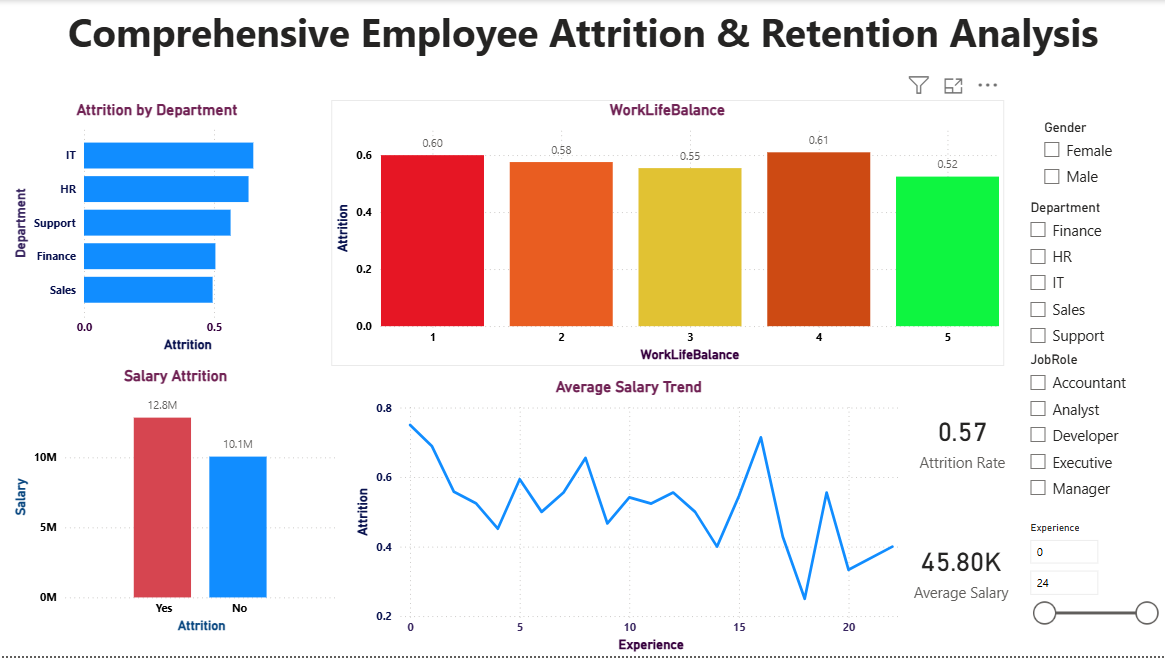

What the dashboard file says about the page in this screenshot:
{"tool":"powerbi","page":{"name":"Page 1","canvas":[1280,720],"ordinal":0},"visuals":[{"type":"barChart","title":"Attrition by Department","fields":{"Category":["employee_attrition.Department"],"Y":["employee_attrition.Attrition Rate"]},"box":[9.6,109.8,325.2,281.3],"z":0},{"type":"clusteredColumnChart","title":"Salary Attrition","fields":{"Category":["employee_attrition.Attrition"],"Y":["Sum(employee_attrition.Salary)"]},"box":[9.6,402.1,366.4,297.8],"z":1000},{"type":"columnChart","title":"WorkLifeBalance","fields":{"Category":["employee_attrition.WorkLifeBalance"],"Y":["employee_attrition.Attrition Rate"]},"box":[363.6,109.8,738.3,292.3],"z":2000},{"type":"lineChart","title":"Average Salary Trend","fields":{"Category":["employee_attrition.Experience"],"Y":["employee_attrition.Attrition Rate"]},"box":[385.6,414.4,609.3,306],"z":3000},{"type":"slicer","fields":{"Values":["employee_attrition.Department"]},"box":[1118.4,214.1,161.9,177],"z":4000},{"type":"slicer","fields":{"Values":["employee_attrition.JobRole"]},"box":[1118.4,381.5,161.9,175.6],"z":5000},{"type":"slicer","fields":{"Values":["employee_attrition.Experience"]},"box":[1118.4,568.1,161.9,146.8],"z":6000},{"type":"slicer","fields":{"Values":["employee_attrition.Gender"]},"box":[1133.5,126.2,146.8,87.8],"z":6001},{"type":"card","fields":{"Values":["employee_attrition.Attrition Rate"]},"box":[994.9,414.4,123.5,137.2],"z":6002},{"type":"card","fields":{"Values":["employee_attrition.Average Salary"]},"box":[992.1,551.6,126.2,148.2],"z":6003},{"type":"textbox","box":[0,0,1280.3,70],"z":6004}]}

Visuals, with their boxes in screenshot pixels (x1, y1, x2, y2), scaled from the page's 1280x720 canvas onto the 1165x660 screenshot:
"Attrition by Department" barChart: box(9, 101, 305, 359)
"Salary Attrition" clusteredColumnChart: box(9, 369, 342, 642)
"WorkLifeBalance" columnChart: box(331, 101, 1003, 369)
"Average Salary Trend" lineChart: box(351, 380, 906, 659)
slicer - employee_attrition.Department: box(1018, 196, 1164, 359)
slicer - employee_attrition.JobRole: box(1018, 350, 1164, 511)
slicer - employee_attrition.Experience: box(1018, 521, 1164, 655)
slicer - employee_attrition.Gender: box(1032, 116, 1164, 196)
card - employee_attrition.Attrition Rate: box(906, 380, 1018, 506)
card - employee_attrition.Average Salary: box(903, 506, 1018, 641)
textbox: box(0, 0, 1164, 64)
